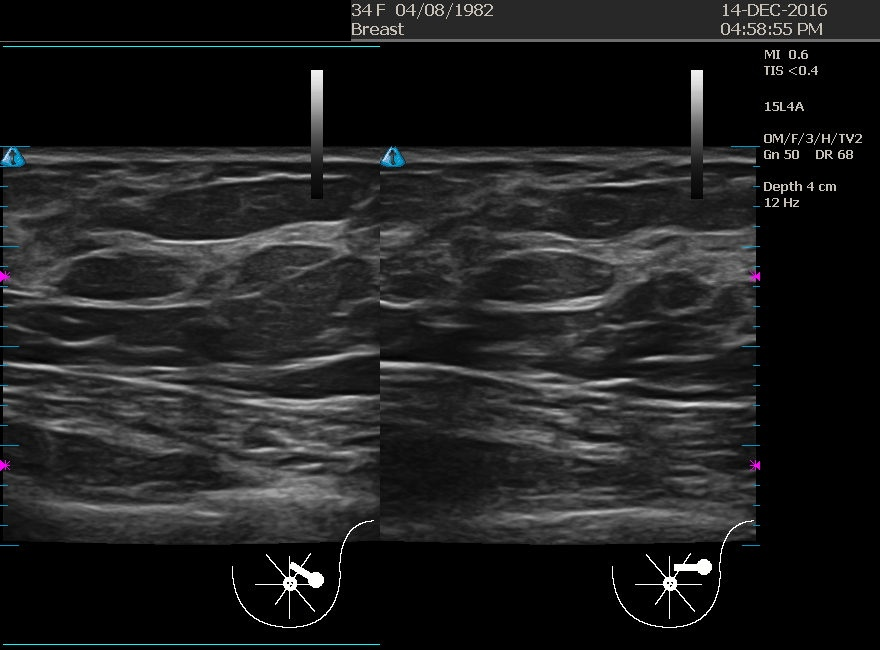BIRADS_3: (437, 149, 637, 350)
Benign: (35, 152, 235, 352)
